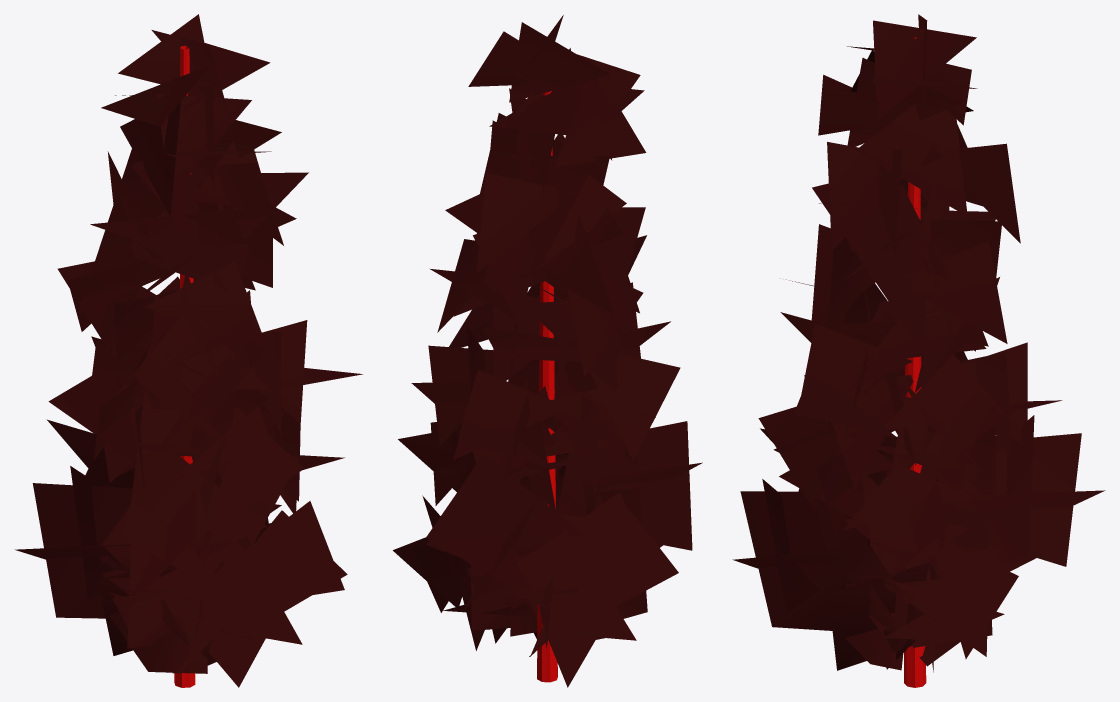
File: birchOptimized_2.fbx
3 views of the same model, side by side, from view 1: azimuth 30°, elevation 25°; view 2: azimuth 150°, elevation 25°; view 3: azimuth 270°, elevation 25° (orthographic). The views are drawn at different scales.
Parts seen in each view (by area): view 1: SM_Tree_Birch_02; view 2: SM_Tree_Birch_02; view 3: SM_Tree_Birch_02.
Part boxes in pixels (x1,y1,x2,y2): SM_Tree_Birch_02: [15, 14, 362, 687]; SM_Tree_Birch_02: [393, 15, 702, 687]; SM_Tree_Birch_02: [732, 14, 1105, 687].
Bounding box in the file's own units: 207 × 449 × 226.
